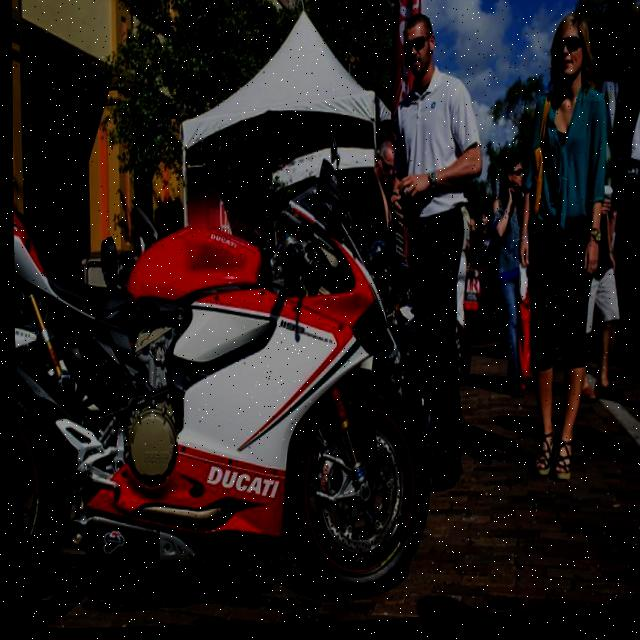motorcycle: (8, 150, 444, 619)
